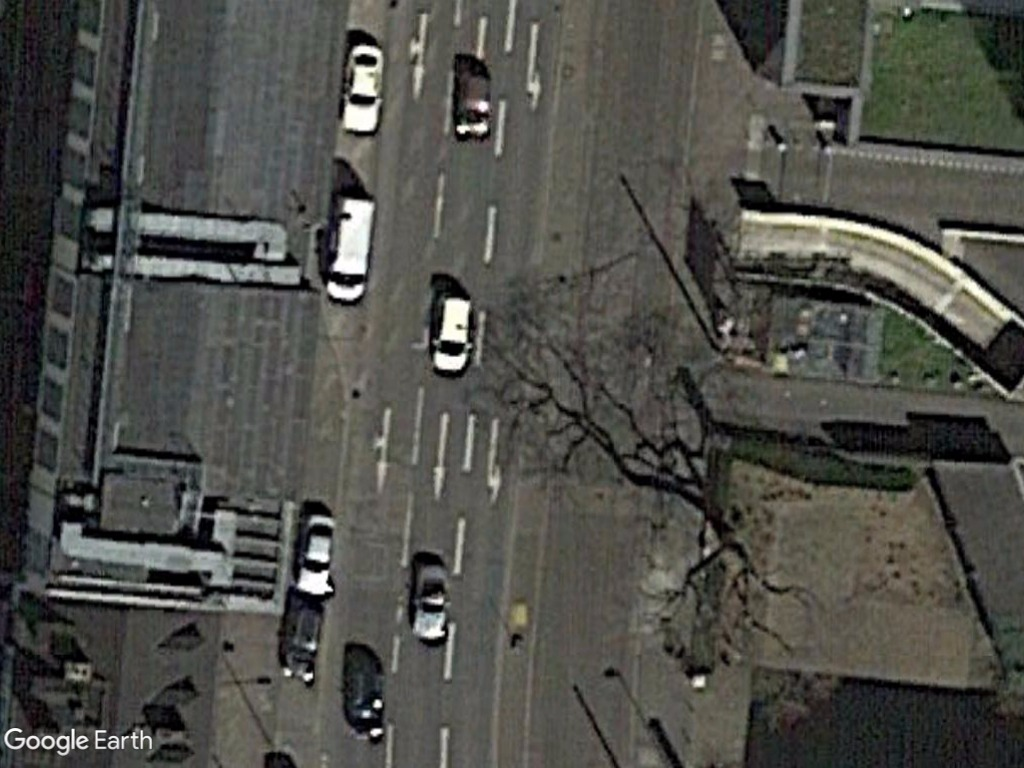car: (333, 38, 390, 139), (425, 289, 475, 383), (290, 510, 339, 601)
van: (316, 191, 378, 311)
